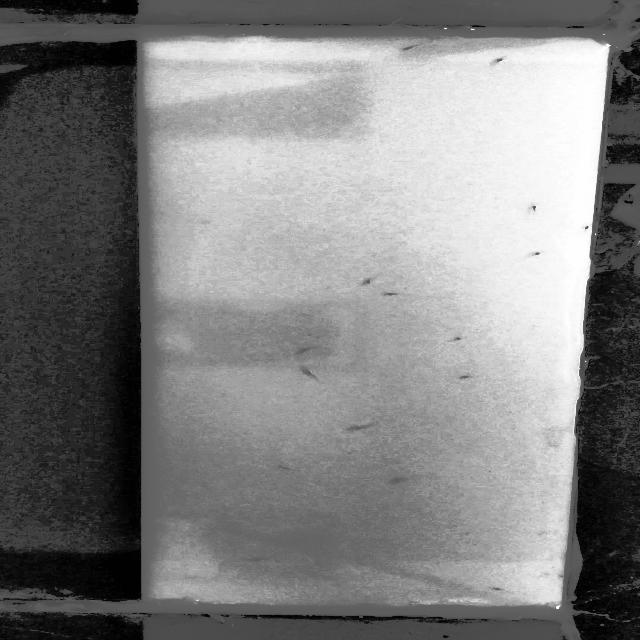shrimp: (346, 418, 377, 434), (402, 42, 440, 55), (298, 364, 327, 381), (491, 54, 527, 66), (296, 344, 326, 358), (521, 250, 554, 262), (251, 555, 275, 568), (364, 274, 390, 286), (486, 585, 514, 596), (387, 476, 408, 488), (442, 335, 466, 345), (278, 463, 303, 472), (382, 290, 408, 297), (578, 223, 593, 235), (458, 373, 475, 382), (533, 203, 545, 215), (358, 602, 379, 608)
